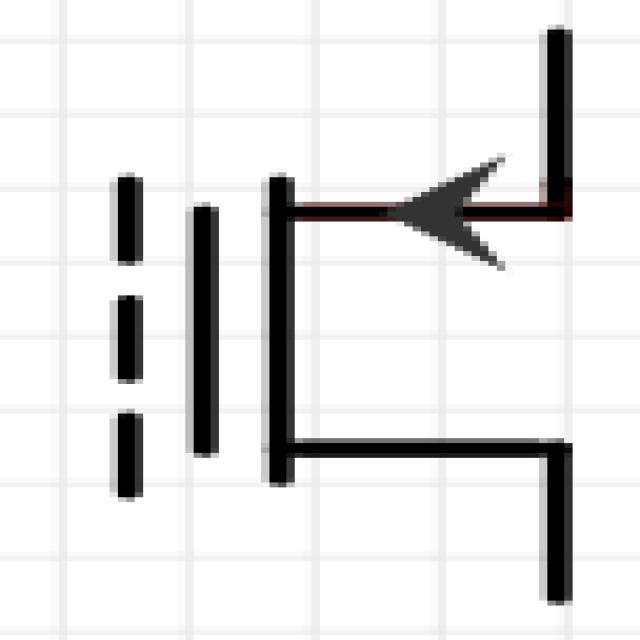pmos: (42, 29, 640, 616)
